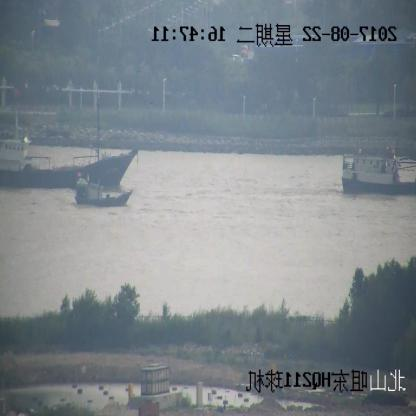Fishing Boat: (0, 96, 139, 188), (341, 146, 415, 194), (75, 174, 131, 208)
